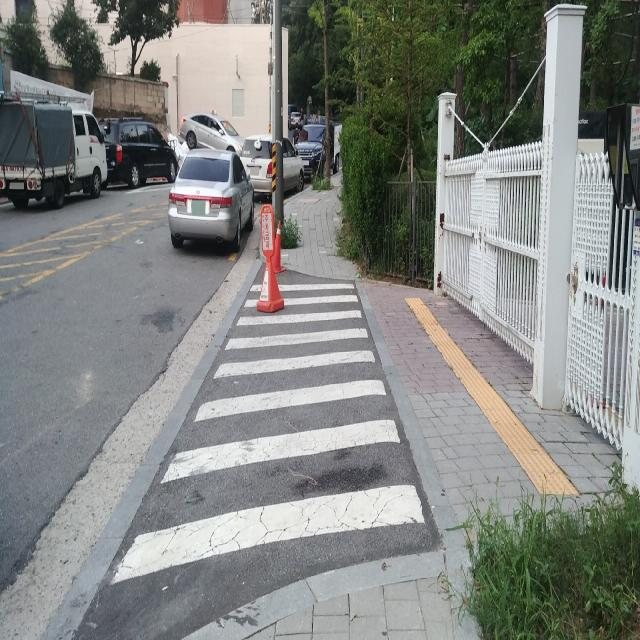횡단보도: (106, 278, 427, 590)
